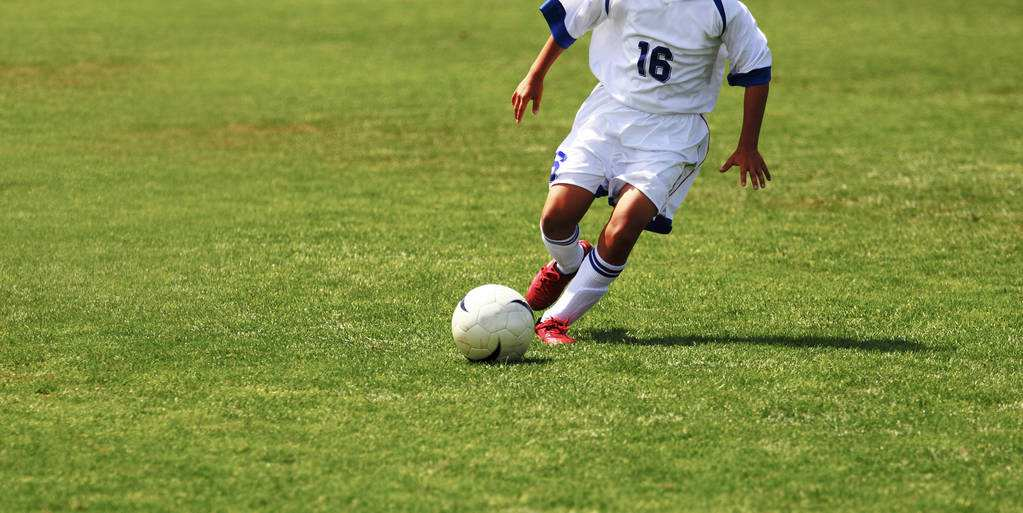football: (451, 284, 540, 363)
